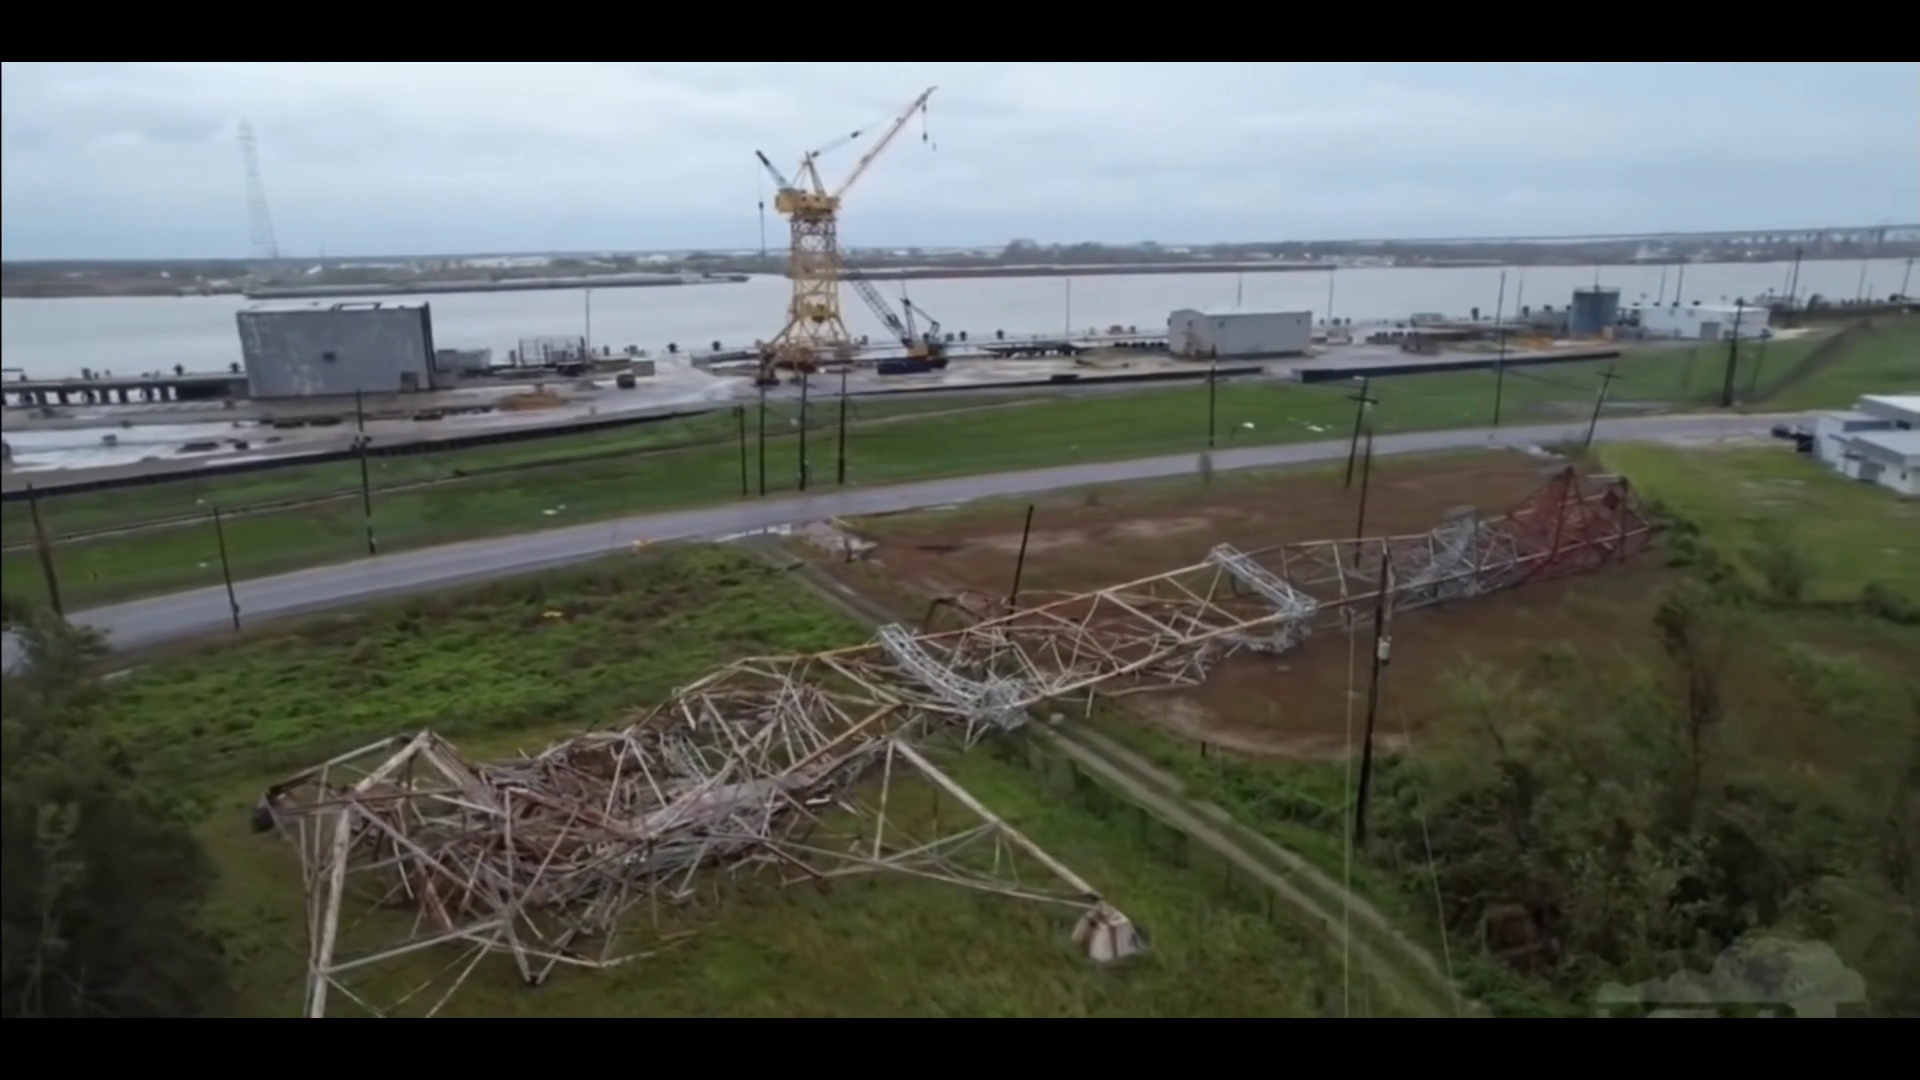tower_down: (269, 433, 1648, 1019)
